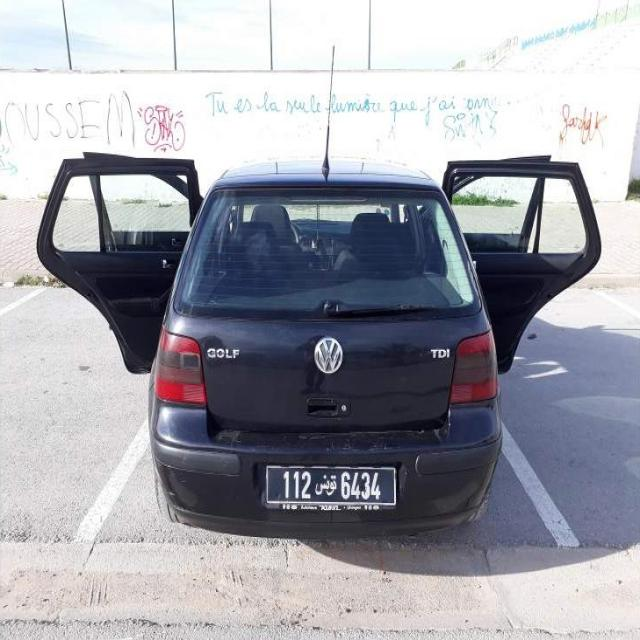licence plate: (268, 468, 394, 502)
